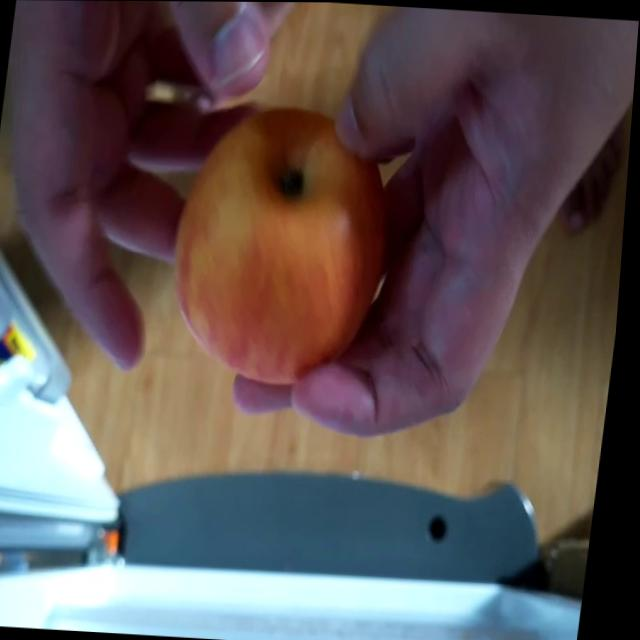apple: (156, 110, 403, 394)
